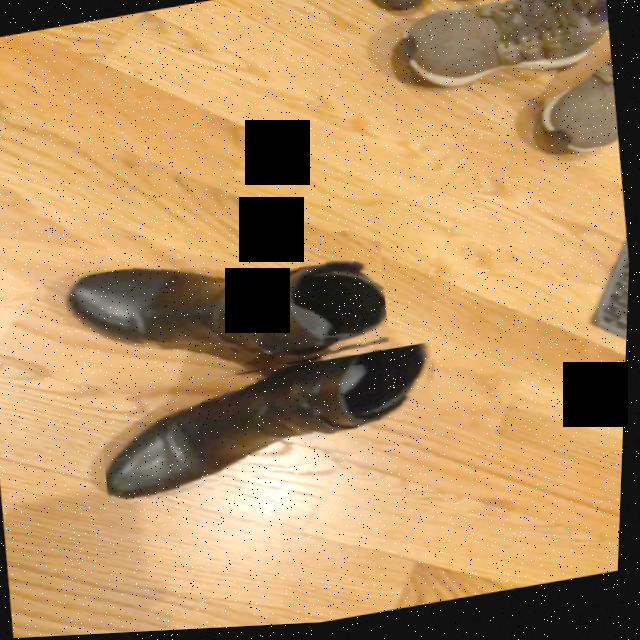shoe: (109, 348, 435, 503), (71, 267, 389, 368)
